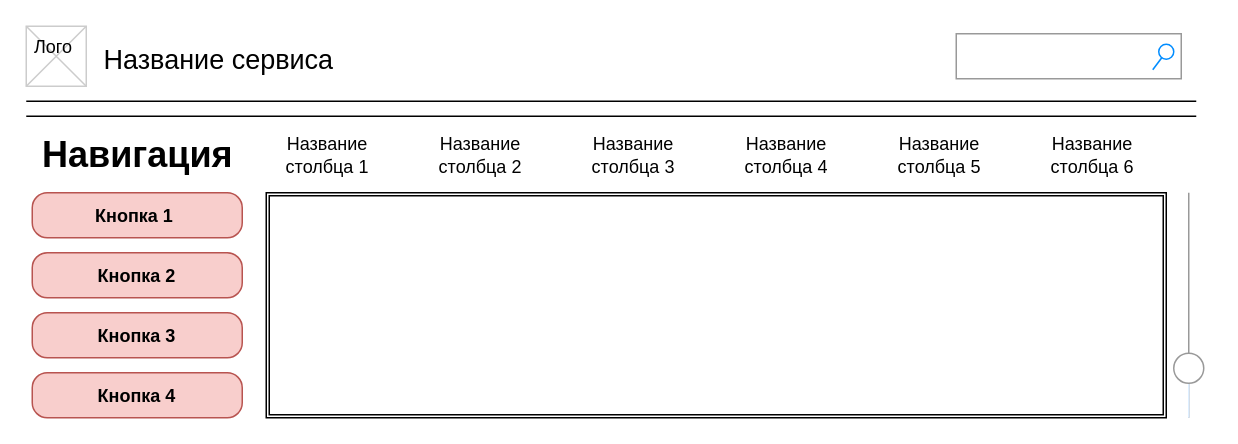
The diagram is 1238 pixels wide and 444 high, and some of its shapes have lost their labels. Each missing label, with the centre of its shape:
"Данные из БД" belongs at point 715,304.
"Поиск" belongs at point 1068,55.
